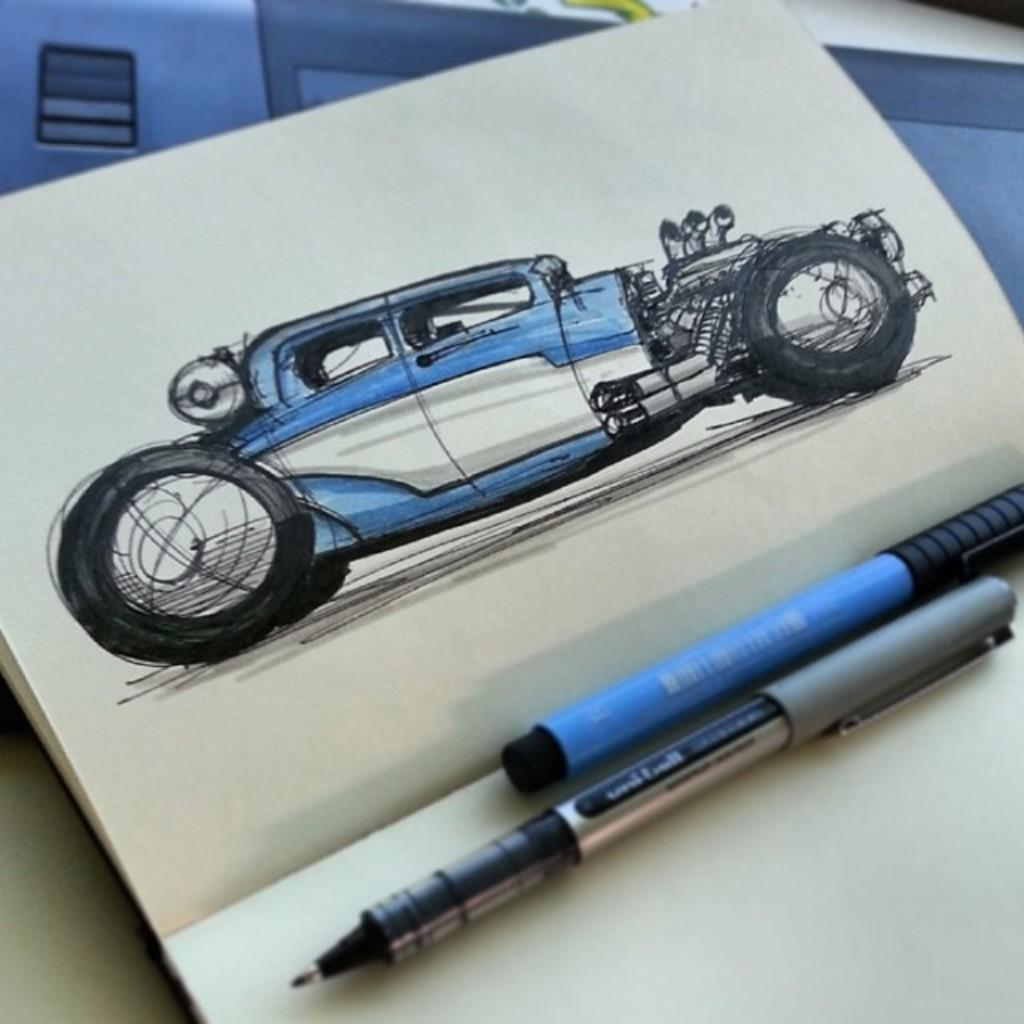pen: (277, 571, 1022, 1002), (501, 472, 1022, 800)
